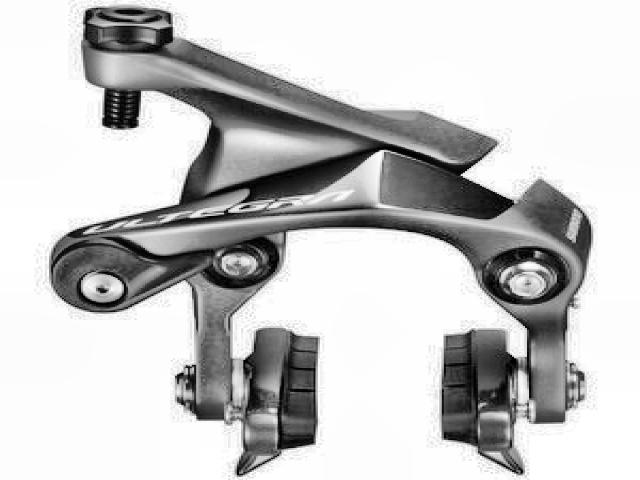rim_brake: (47, 4, 593, 478)
